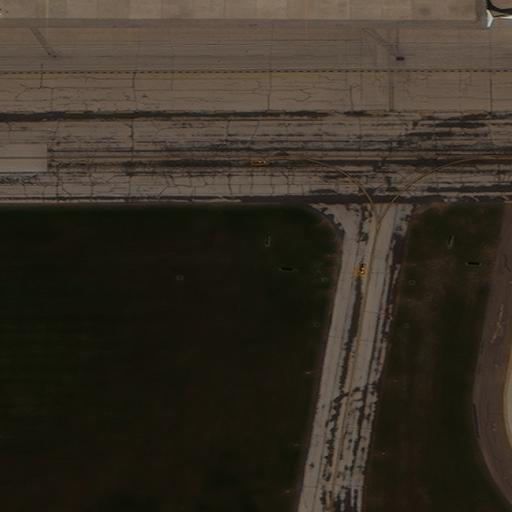Medium Civil Transport: (486, 1, 511, 33)
